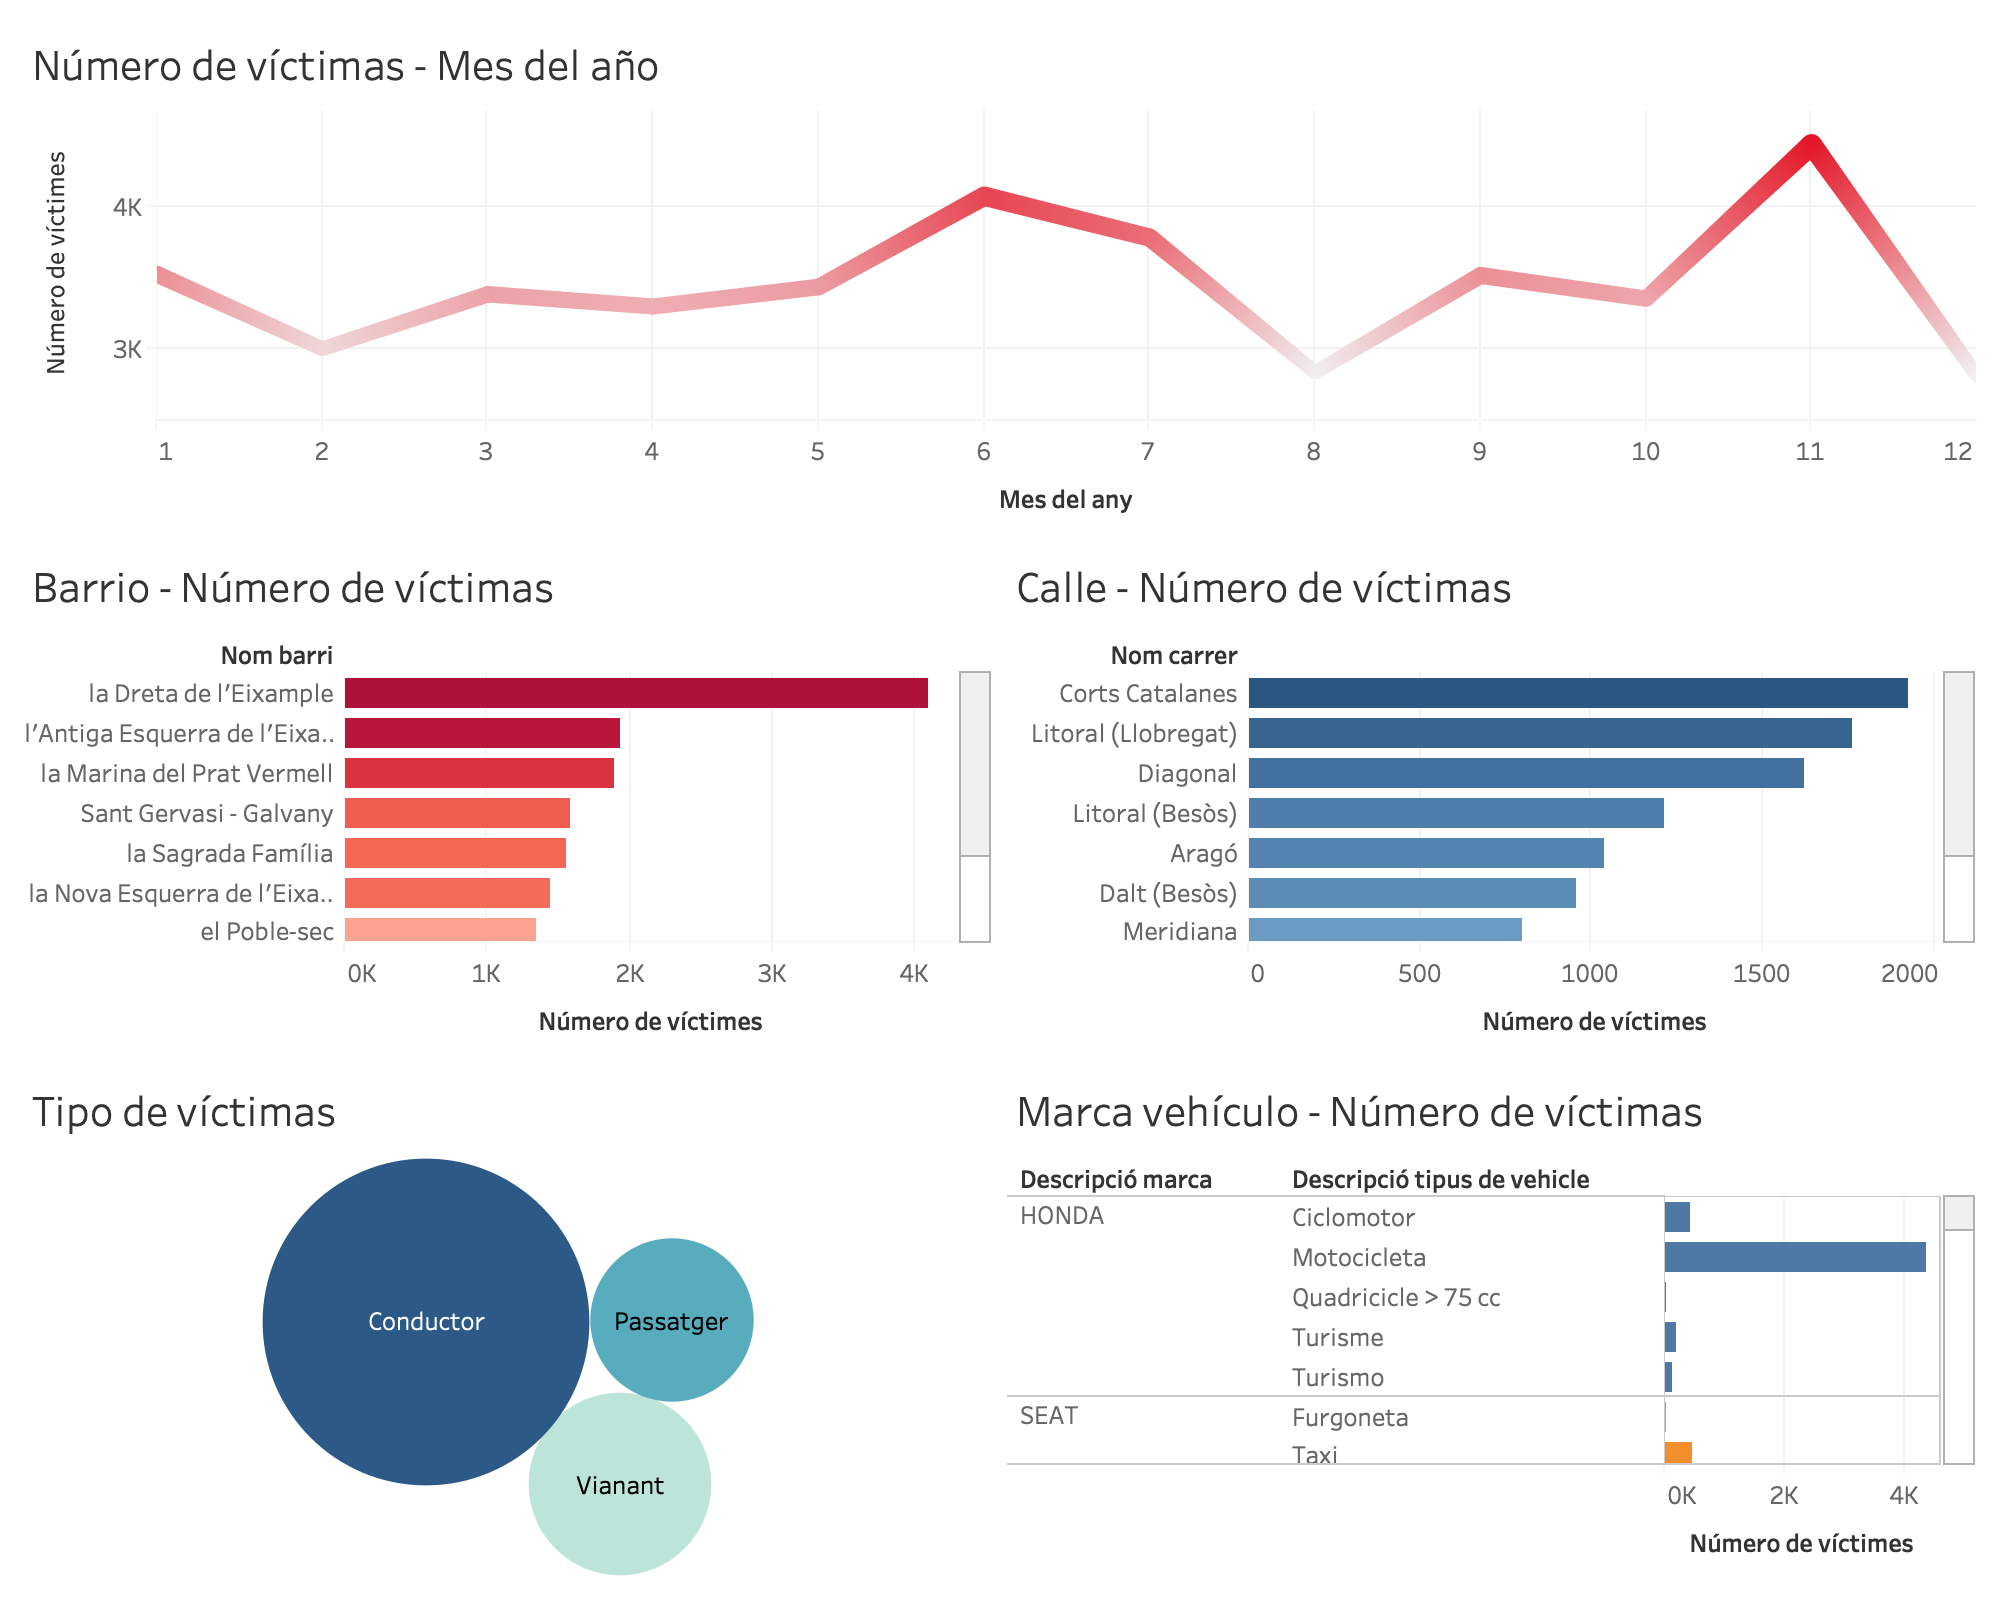

What the dashboard file says about the page in this screenshot:
{"tool":"tableau","page":{"name":"Dashboard 2","canvas":[1000,800],"ordinal":0},"visuals":[{"type":"worksheet","title":"Dash 1","mark":"Automatic","rows":["Número de víctimes"],"cols":["Mes de any (Página1!11)"],"box":[8,8,984,261.3]},{"type":"worksheet","title":"Dash 2","mark":"Automatic","rows":["Nom barri"],"cols":["Número de víctimes"],"box":[8,269.3,492,261.3]},{"type":"worksheet","title":"Dash 3","mark":"Automatic","rows":["Nom carrer"],"cols":["Número de víctimes"],"box":[500,269.3,492,261.3]},{"type":"worksheet","title":"Dash 4","mark":"Circle","box":[8,530.7,492,261.3]},{"type":"worksheet","title":"Dash 5","mark":"Automatic","rows":["Descripció marca","Descripció tipus de vehicle"],"cols":["Número de víctimes"],"box":[500,530.7,492,261.3]}]}

Visuals, with their boxes in screenshot pixels (x1, y1, x2, y2), scaled from the page's 1000x800 canvas onto the 2000x1600 screenshot:
"Dash 1" worksheet: 16:16:1984:539
"Dash 2" worksheet: 16:539:1000:1061
"Dash 3" worksheet: 1000:539:1984:1061
"Dash 4" worksheet (Circle marks): 16:1061:1000:1584
"Dash 5" worksheet: 1000:1061:1984:1584
